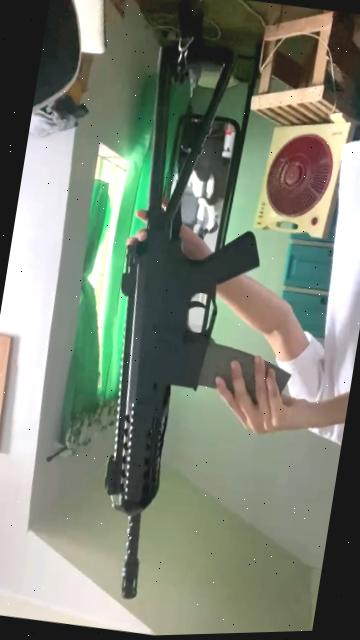rifle: (60, 29, 296, 615)
